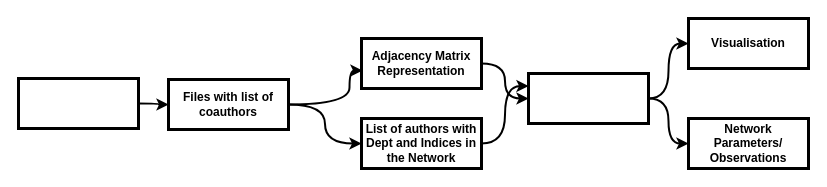
The diagram is 827 pixels wide and 187 high, and some of its shapes have lost their labels. The shapes that lost their labels are listed below. From the top down, each one's centre as x and y in pixels, then its label:
At (x=78, y=103): "SCOPUS".
At (x=588, y=98): "Graph Package (igraph/networkx)".
